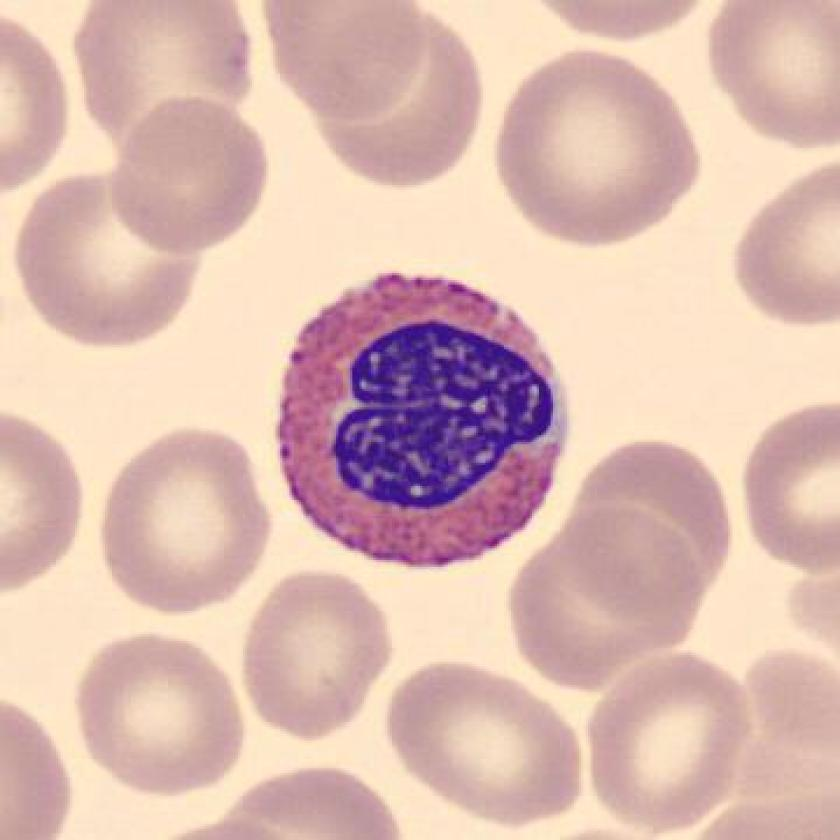eosinophil: (262, 260, 582, 580)
